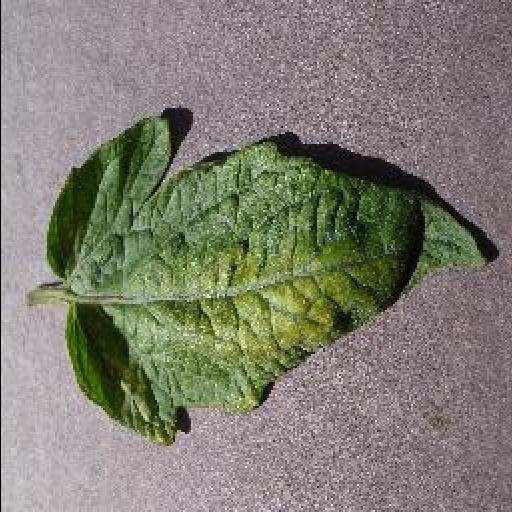disease_tomato: (47, 114, 485, 446)
